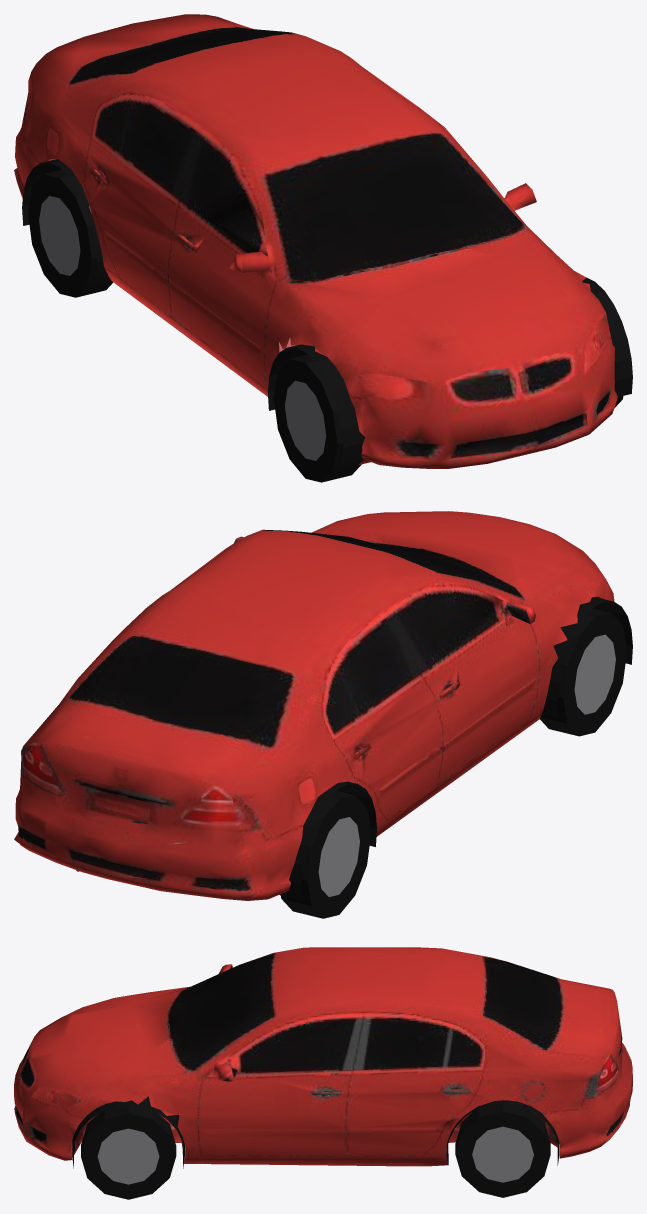
The model's file is saloon-red.glb.
The picture shows the model from 3 angles, top to bottom: view 1: azimuth 30°, elevation 25°; view 2: azimuth 150°, elevation 25°; view 3: azimuth 270°, elevation 25°; orthographic projection. The views are drawn at different scales.
Visible parts, largest first — view 1: saloon, wheel_fr, wheel_rr; view 2: saloon, wheel_rr, wheel_fr; view 3: saloon, wheel_rl, wheel_fl.
Boxes of the visible parts, left/top/right/bottom form: saloon: left=14, top=14, right=632, bottom=468; wheel_fr: left=273, top=354, right=363, bottom=482; wheel_rr: left=28, top=170, right=112, bottom=297; saloon: left=14, top=511, right=632, bottom=900; wheel_rr: left=280, top=791, right=371, bottom=918; wheel_fr: left=540, top=608, right=626, bottom=736; saloon: left=14, top=947, right=632, bottom=1168; wheel_rl: left=455, top=1103, right=550, bottom=1197; wheel_fl: left=81, top=1105, right=176, bottom=1199.
Bounding box in the file's own units: 1.88 × 1.41 × 4.5.
Materials: 1 (1 with a texture image).
